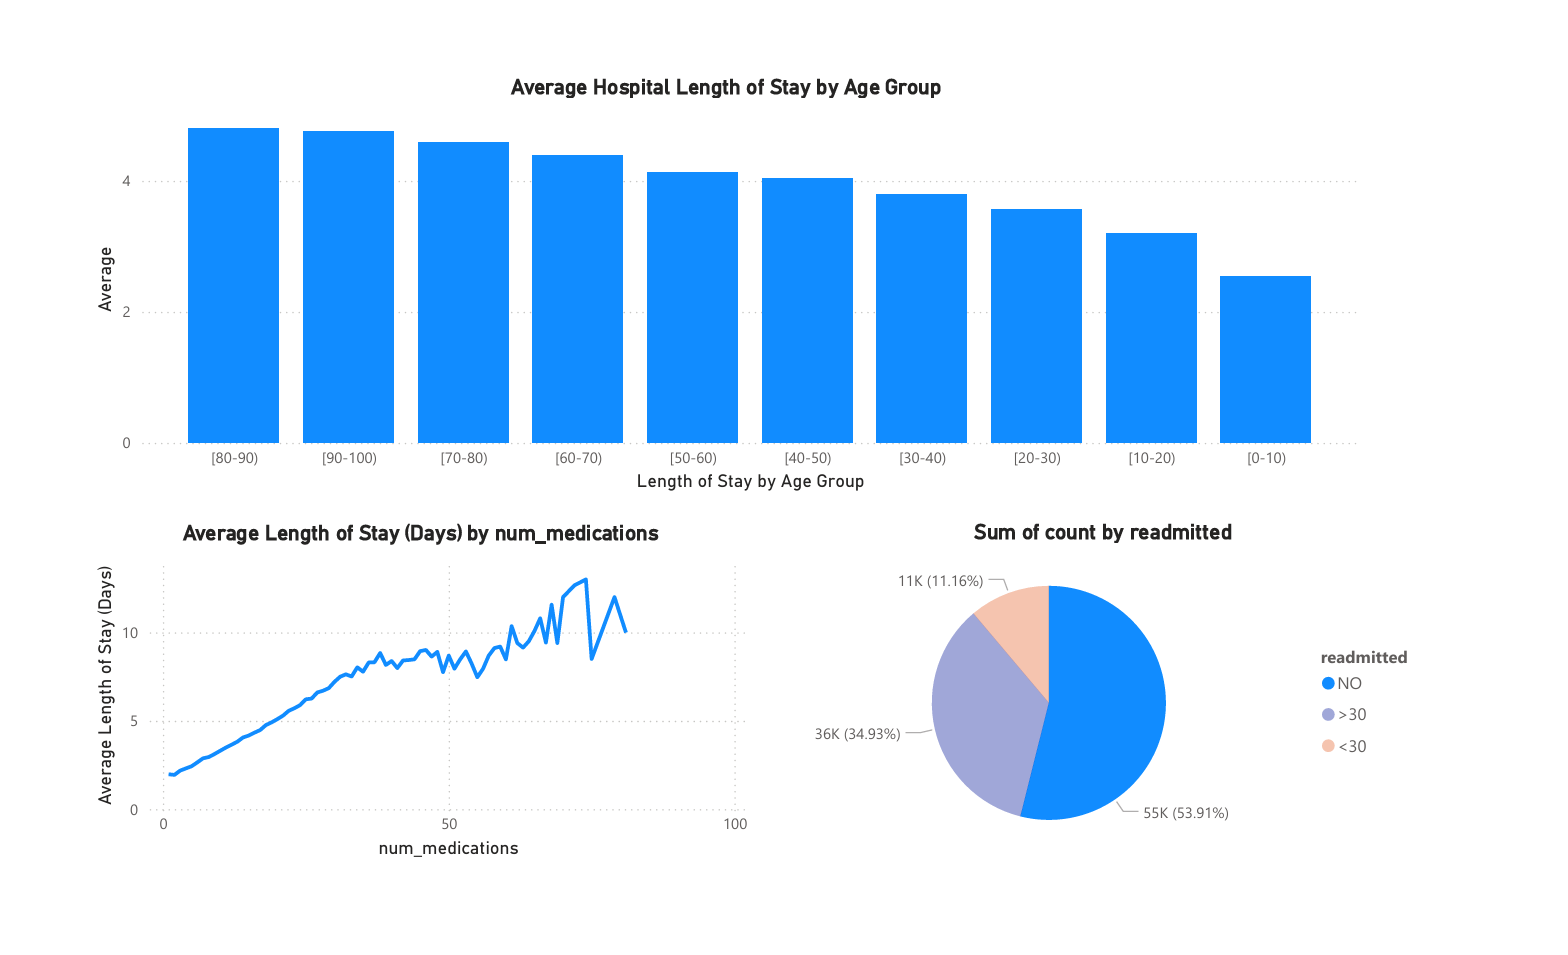

The page's visual inventory and layout, read from the dashboard file:
{"tool":"powerbi","page":{"name":"Average Length of Stay by Age Group","canvas":[1280,720],"ordinal":0},"visuals":[{"type":"clusteredColumnChart","title":"Average Hospital Length of Stay by Age Group","fields":{"Y":["Sum(los_by_age_r.avg_los)"],"Category":["los_by_age_r.age"]},"box":[53,37,1021,339],"z":0},{"type":"lineChart","fields":{"Y":["Avg(los_by_meds_r.avg_los)"],"Category":["los_by_meds_r.num_medications"]},"box":[53,394,532,275],"z":1},{"type":"pieChart","fields":{"Y":["Sum(readmission_rate_r.count)"],"Category":["readmission_rate_r.readmitted"]},"box":[599,393,532,275],"z":2}]}

Visuals, with their boxes on the page's 1280x720 design canvas (x1, y1, x2, y2). These are canvas units, not pixel positions in the 1568x955 screenshot, which may show the page scaled, cropped or inside an application window:
"Average Hospital Length of Stay by Age Group" clusteredColumnChart: box=[53, 37, 1074, 376]
lineChart - Avg(los_by_meds_r.avg_los) x los_by_meds_r.num_medications: box=[53, 394, 585, 669]
pieChart - Sum(readmission_rate_r.count) x readmission_rate_r.readmitted: box=[599, 393, 1131, 668]
